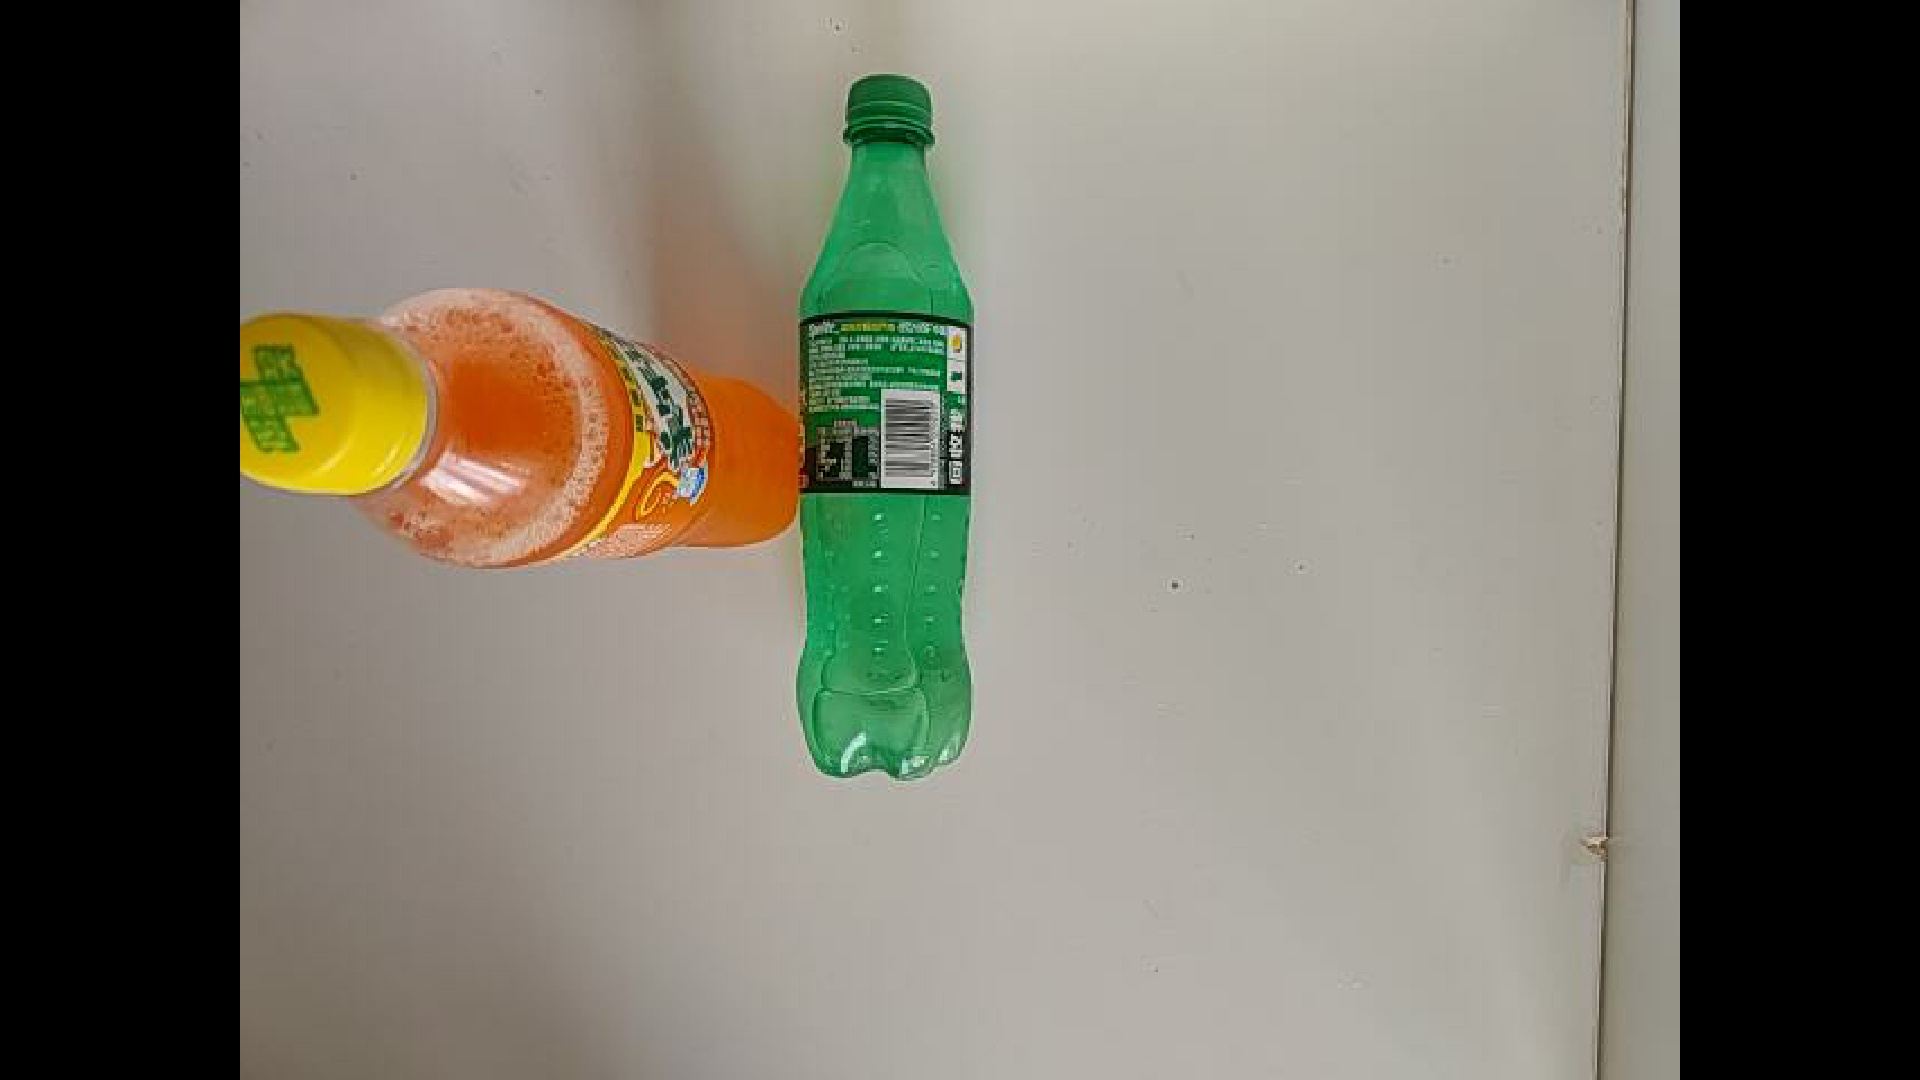fenta: (241, 285, 799, 571)
sprite: (795, 74, 976, 783)
